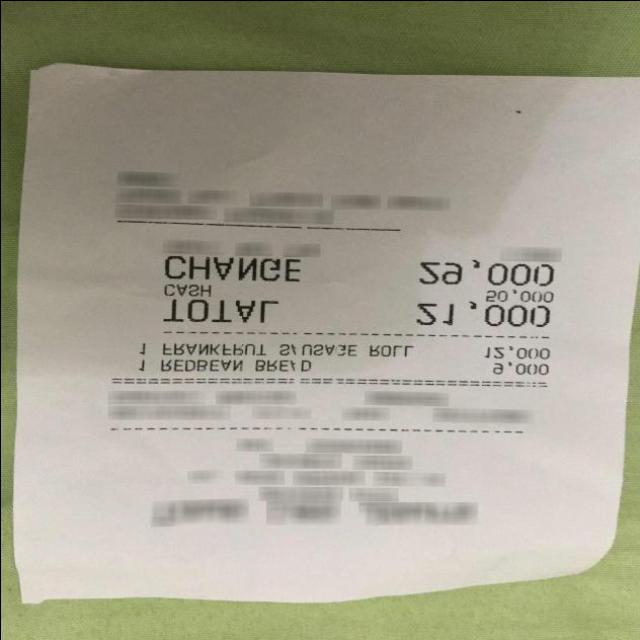kertas: (9, 62, 640, 617)
